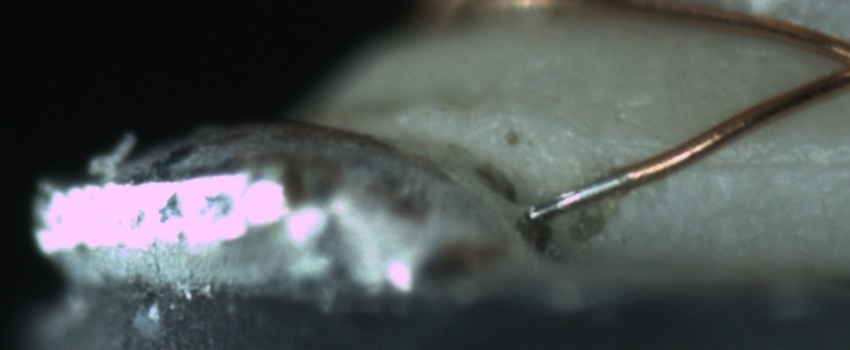CL: (816, 38, 848, 88)
DL: (679, 132, 847, 197)
TS: (525, 169, 627, 220)
